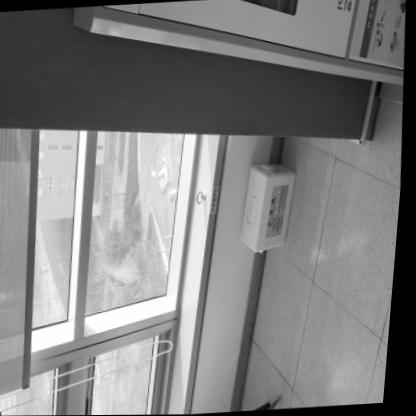DDL: (239, 163, 303, 253)
